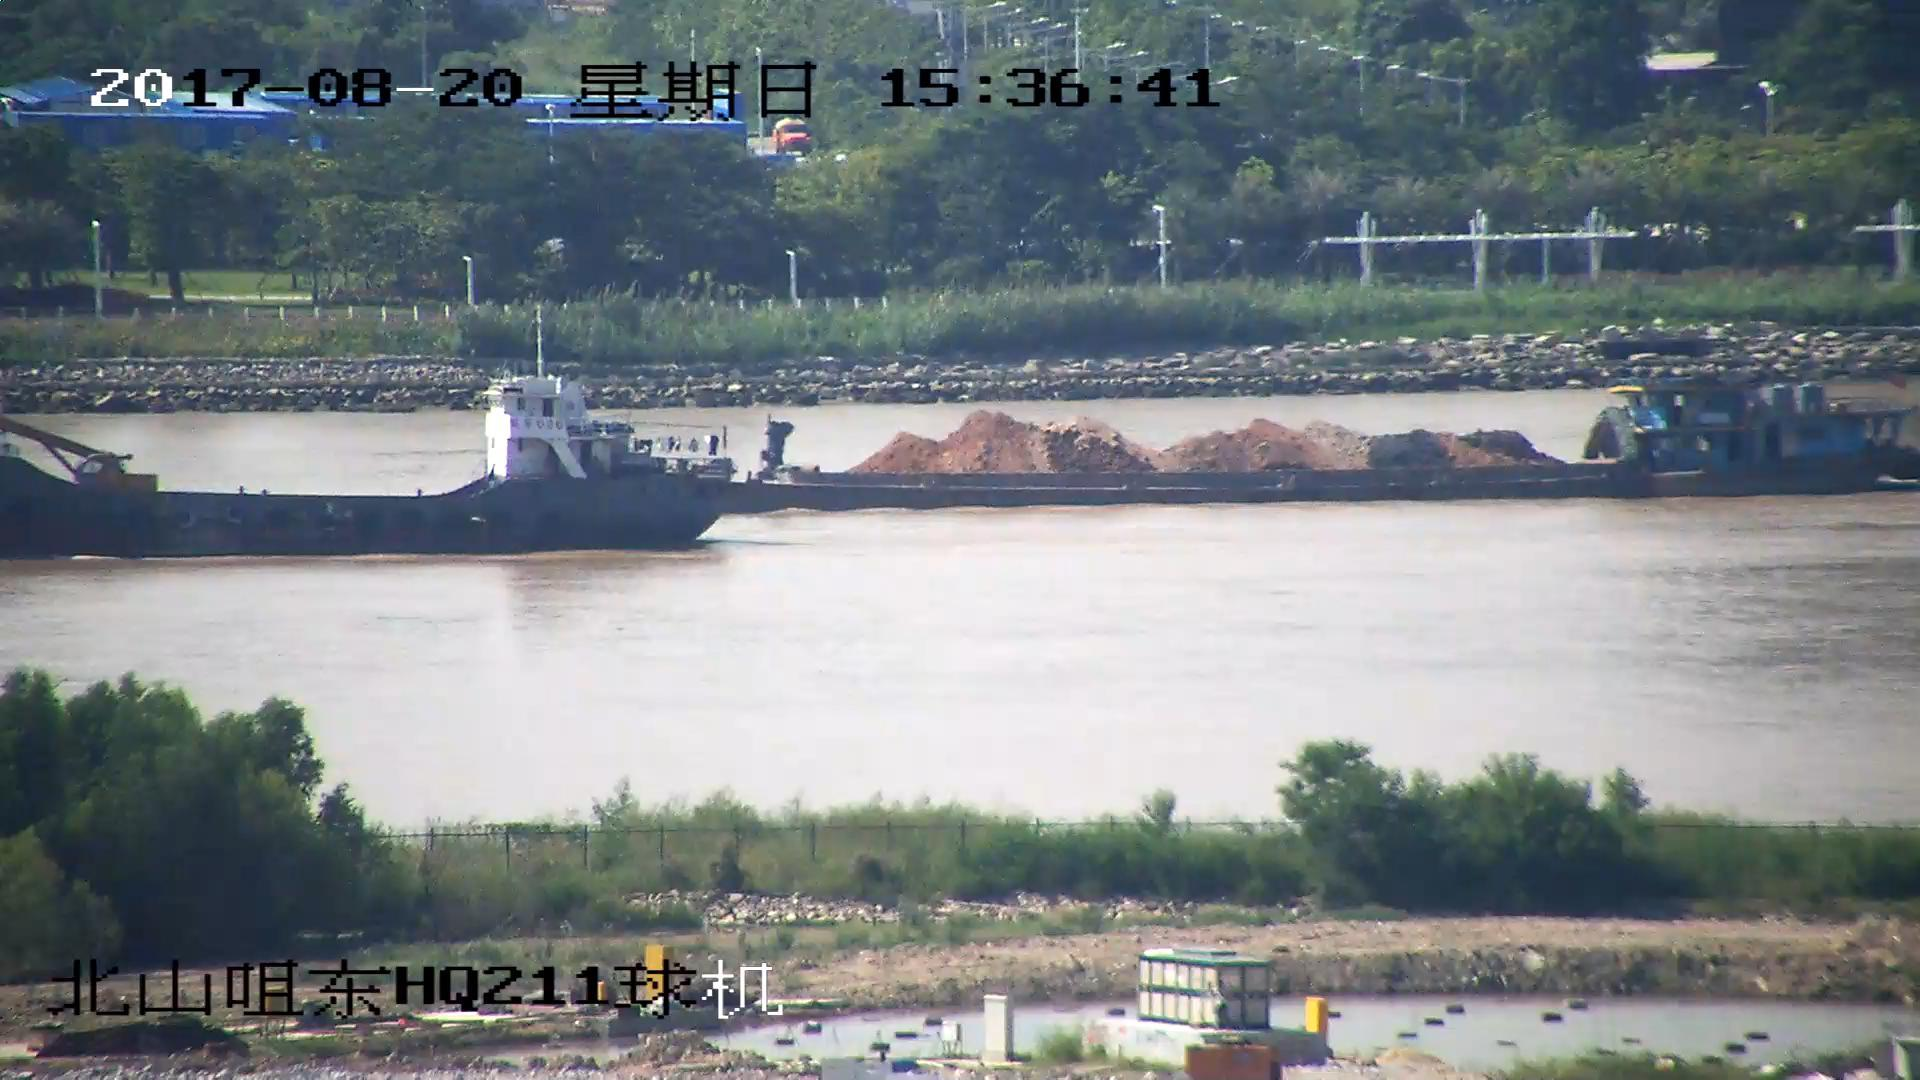Ship: (3, 313, 756, 558), (669, 378, 1920, 505)
